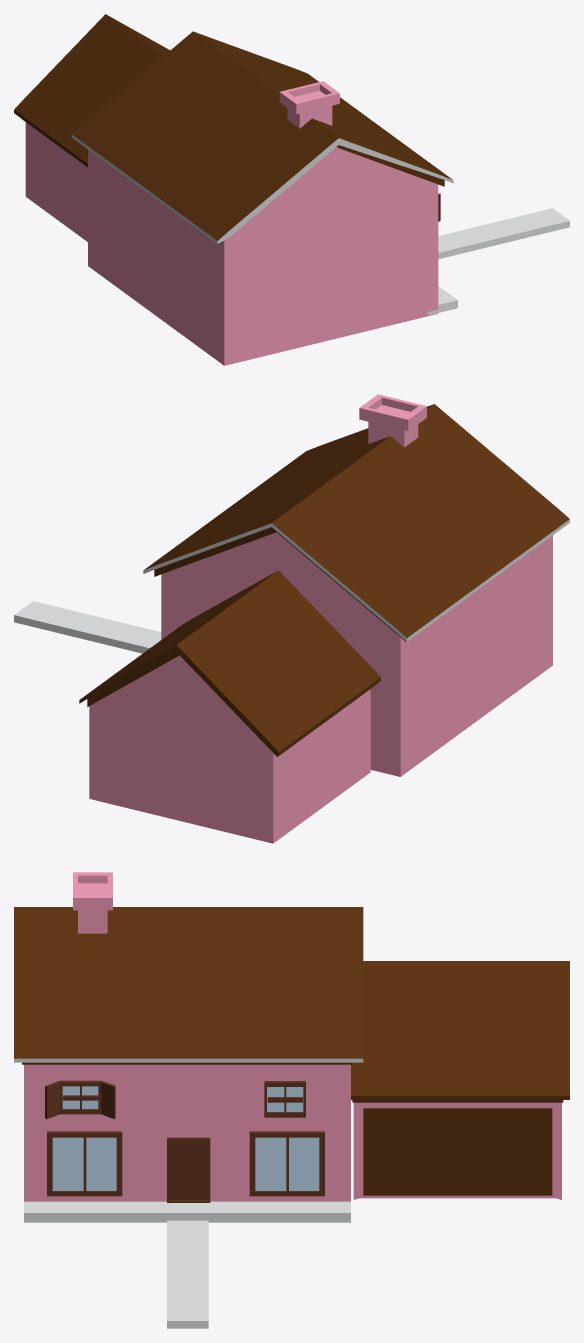
Rendered from Casa3.fbx.
The picture shows the model from 3 angles, top to bottom: view 1: azimuth 30°, elevation 25°; view 2: azimuth 150°, elevation 25°; view 3: azimuth 270°, elevation 25°; orthographic projection. The views are drawn at different scales.
Parts seen in each view (by area): view 1: Cube.029; view 2: Cube.029; view 3: Cube.029.
Part boxes in pixels (<box>): Cube.029: <box>14,14,569,365</box>; Cube.029: <box>14,394,569,843</box>; Cube.029: <box>14,872,569,1328</box>.
Bounding box in the file's own units: 1896 × 994 × 1831.
